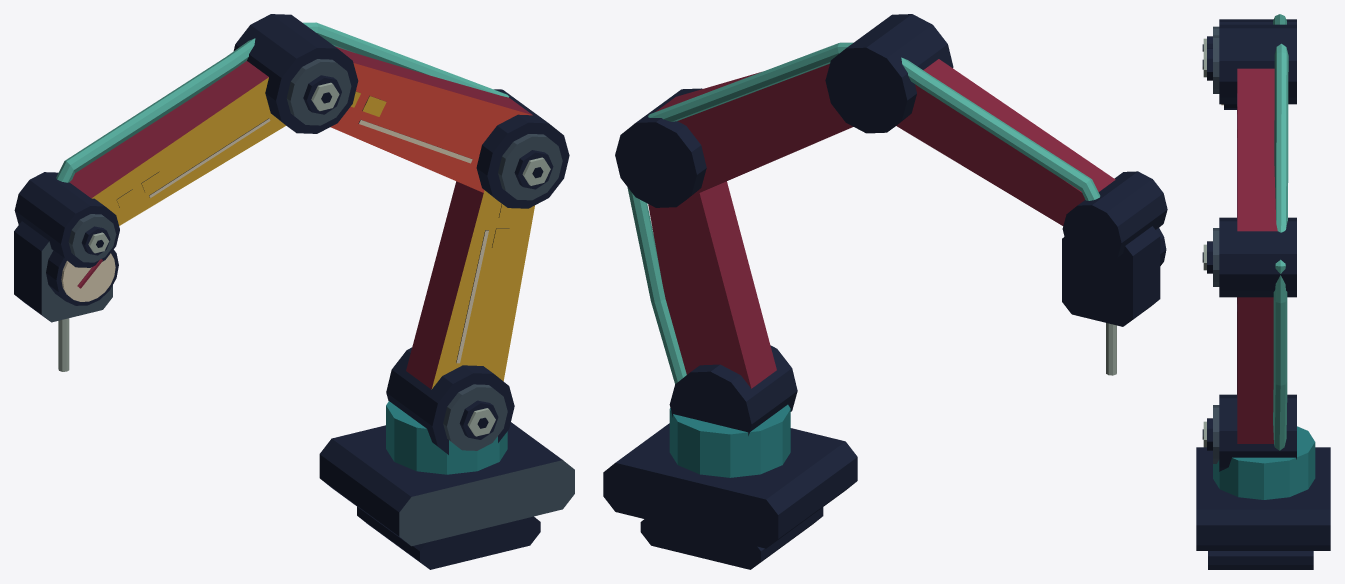
File: inspection_arm.glb
3 views of the same model, side by side, from view 1: azimuth 30°, elevation 25°; view 2: azimuth 150°, elevation 25°; view 3: azimuth 270°, elevation 25° (orthographic). The views are drawn at different scales.
Parts seen in each view (by area): view 1: Forged_links, Pivot_housings, Table_clamp, Pneumatic_line, Shoulder_pedestal, Set_screws, Clamp_pad, Dial_indicator_body, Enamel_flash, Indicator_dial, Indicator_bezel; view 2: Forged_links, Pivot_housings, Table_clamp, Pneumatic_line, Dial_indicator_body, Shoulder_pedestal, Clamp_pad; view 3: Pivot_housings, Forged_links, Table_clamp, Pneumatic_line, Shoulder_pedestal, Clamp_pad, Set_screws, Enamel_flash.
Boxes of the visible parts, box(x1,y1,x2,y2) form: Forged_links: box(69, 46, 534, 389); Pivot_housings: box(14, 14, 569, 454); Table_clamp: box(319, 422, 574, 546); Pneumatic_line: box(56, 22, 509, 182); Shoulder_pedestal: box(386, 401, 507, 474); Set_screws: box(81, 75, 553, 439); Clamp_pad: box(357, 507, 540, 569); Dial_indicator_body: box(14, 221, 112, 322); Enamel_flash: box(116, 91, 513, 363); Indicator_dial: box(61, 253, 115, 301); Indicator_bezel: box(46, 249, 118, 305); Forged_links: box(648, 59, 1115, 388); Pivot_housings: box(615, 14, 1167, 435); Table_clamp: box(603, 423, 857, 548); Pneumatic_line: box(627, 42, 1100, 384); Dial_indicator_body: box(1062, 226, 1160, 326); Shoulder_pedestal: box(669, 404, 790, 477); Clamp_pad: box(640, 507, 823, 569); Pivot_housings: box(1213, 19, 1296, 471); Forged_links: box(1237, 68, 1277, 443); Table_clamp: box(1196, 447, 1330, 550); Pneumatic_line: box(1273, 14, 1288, 450); Shoulder_pedestal: box(1213, 426, 1315, 499); Clamp_pad: box(1208, 551, 1313, 569); Set_screws: box(1202, 36, 1212, 450); Enamel_flash: box(1237, 93, 1237, 394).
Size of the model in its own units: 0.9395 by 0.946 by 0.252.
